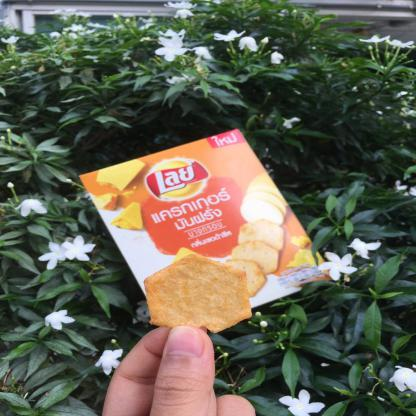potatochip: (83, 129, 335, 333)
